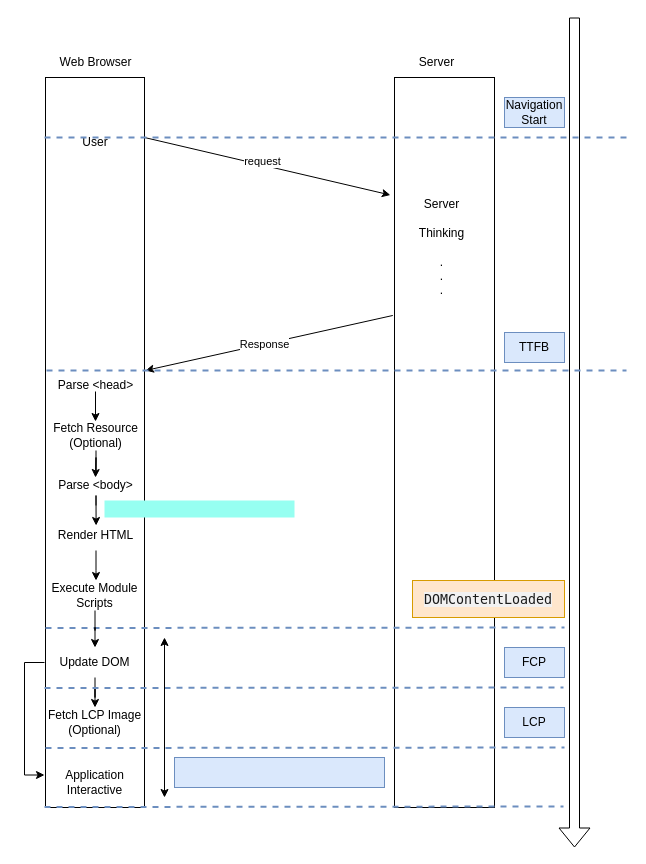
Some shapes in this 646 by 864 pixel diagram are drawn without their labels. The shapes that lost their labels are listed below. From the top down, each one's centre as x and y in pixels, then its label:
(199,508): Default Mode: Body will Empty
(279,772): TBT = Timing - LongTaskNum * 50ms
